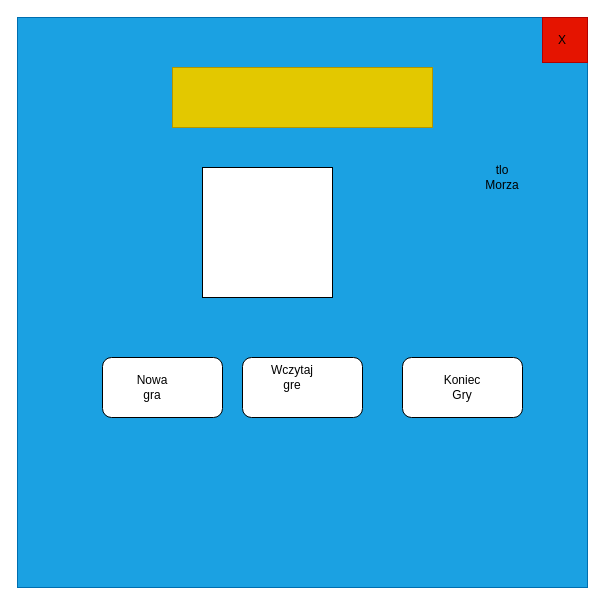
The diagram is 605 pixels wide and 605 high, and some of its shapes have lost their labels. Each missing label, with the box of its shape:
Colonization: (172, 66, 432, 128)
Obrazek Satku: (202, 166, 332, 298)
